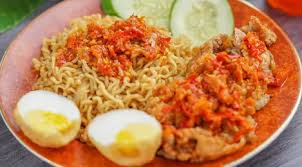ayam_geprek: (166, 30, 277, 158)
